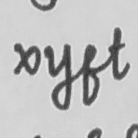f: (79, 42, 103, 107)
t: (105, 25, 132, 82)
x: (10, 41, 42, 76)
y: (43, 42, 76, 112)
